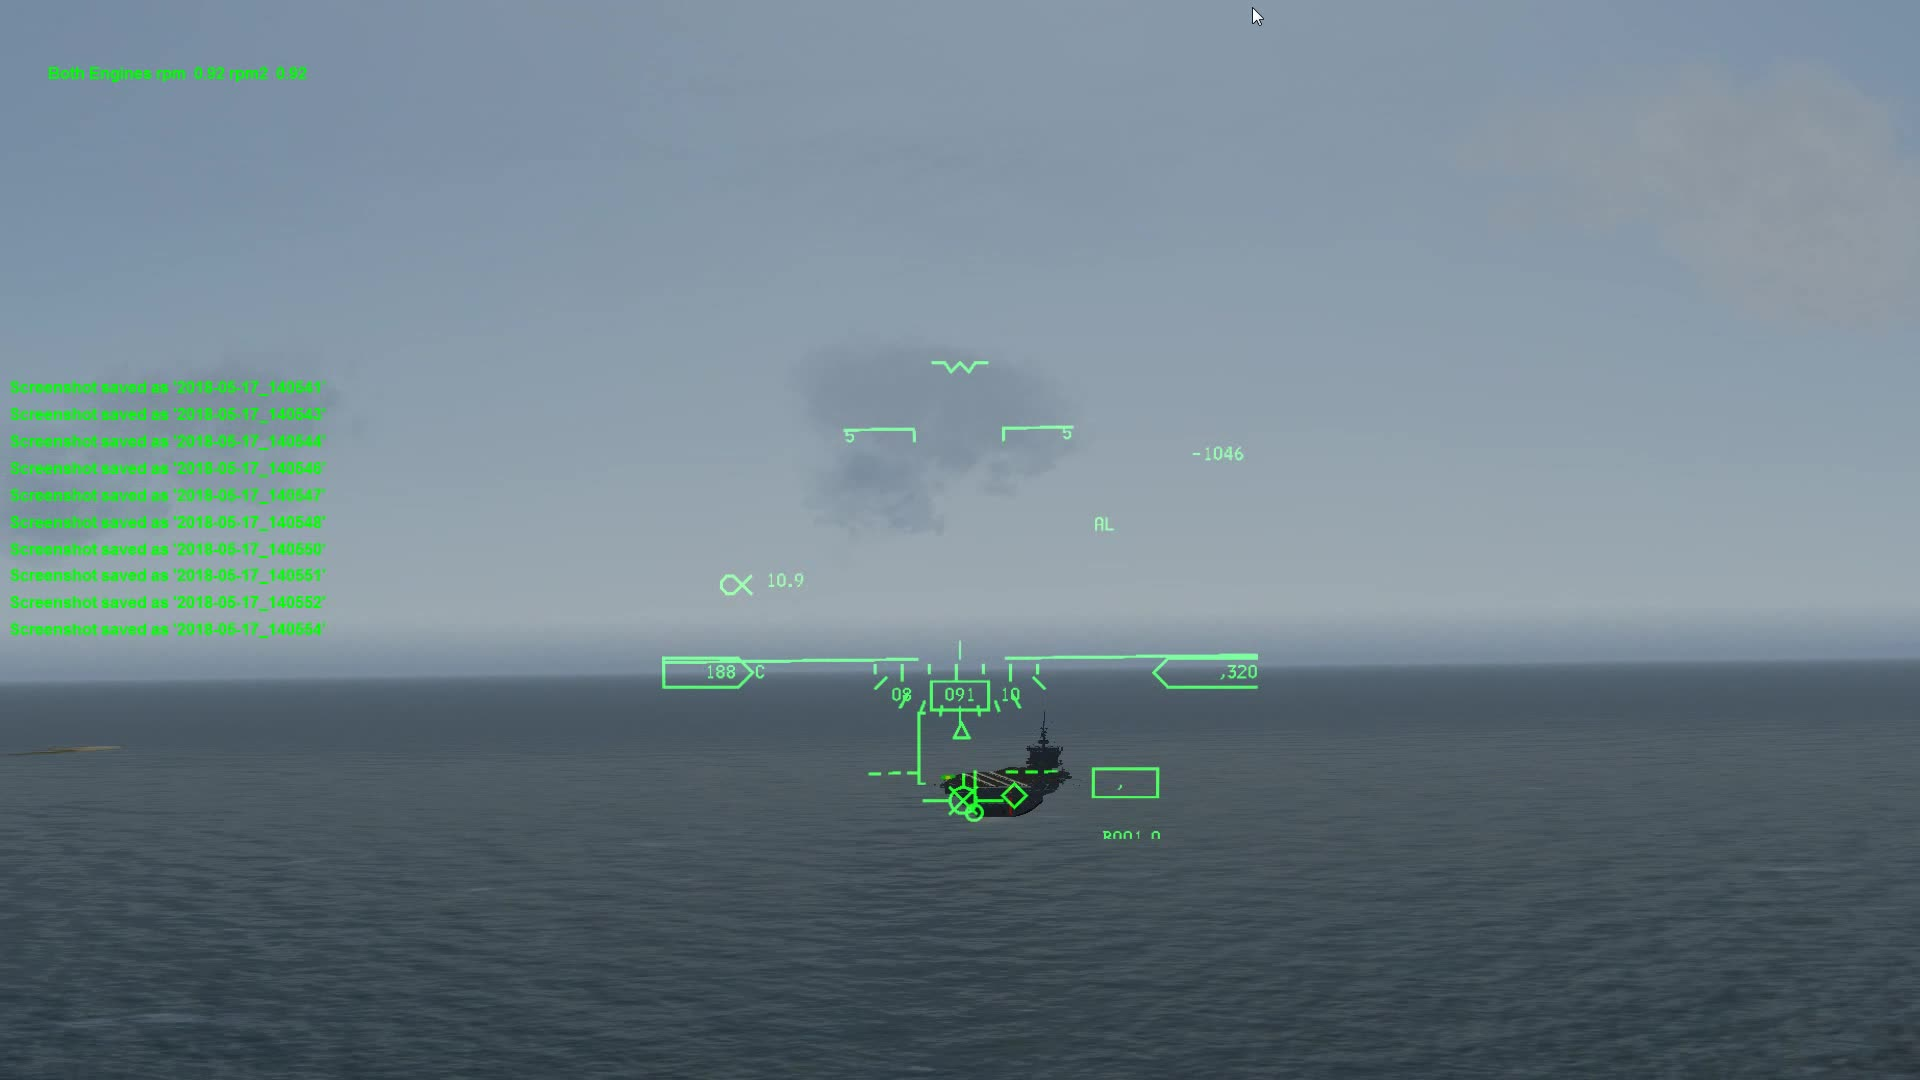speed vector: (930, 779, 1002, 814)
